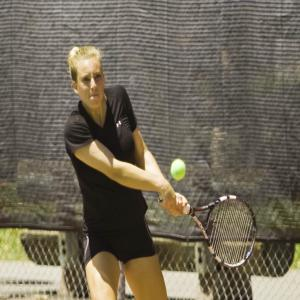TennisBall: (172, 159, 187, 180)
